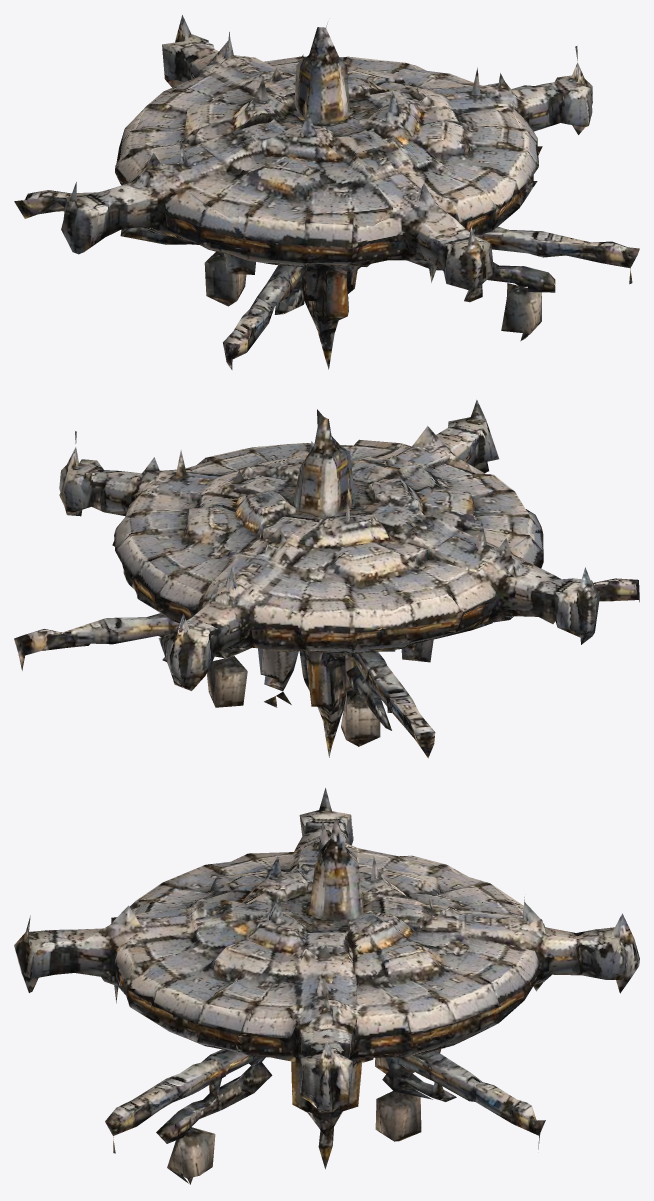
The model's file is st3d_sigma19_deepcut_lod2.glb.
3 renders of one model, top to bottom at view 1: azimuth 30°, elevation 25°; view 2: azimuth 150°, elevation 25°; view 3: azimuth 270°, elevation 25°, orthographic. The views are drawn at different scales.
Parts seen in each view (by area): view 1: HOMELANCER_Station3D_Sigma19-DeepcutTransit_v1; view 2: HOMELANCER_Station3D_Sigma19-DeepcutTransit_v1; view 3: HOMELANCER_Station3D_Sigma19-DeepcutTransit_v1.
Part boxes in pixels (left/top/right/bottom): HOMELANCER_Station3D_Sigma19-DeepcutTransit_v1: left=14, top=15, right=639, bottom=369; HOMELANCER_Station3D_Sigma19-DeepcutTransit_v1: left=14, top=400, right=639, bottom=758; HOMELANCER_Station3D_Sigma19-DeepcutTransit_v1: left=14, top=788, right=639, bottom=1184.
Size of the model in its own units: 0.9766 by 0.6117 by 0.9766.
1 material, 1 textured.
